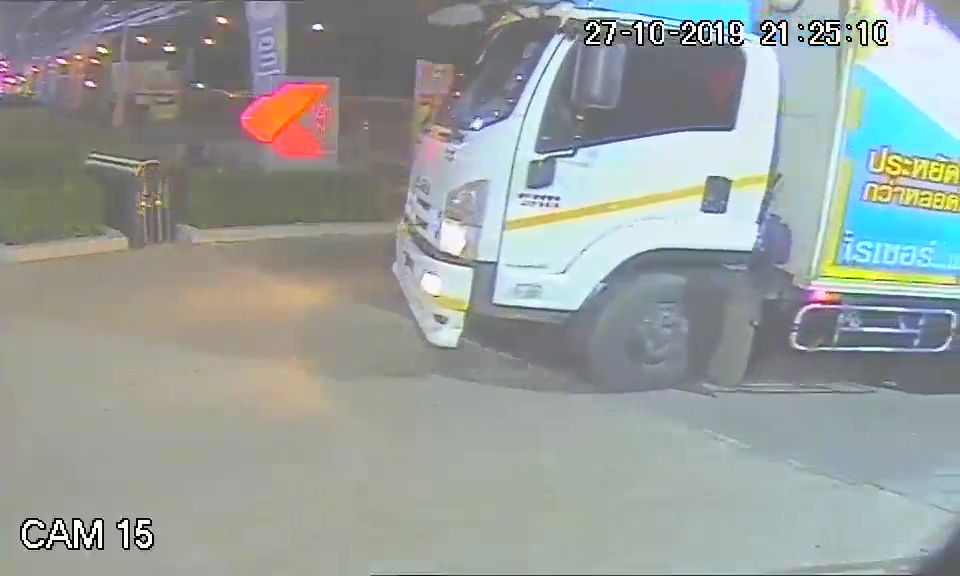truck: (388, 7, 782, 396)
